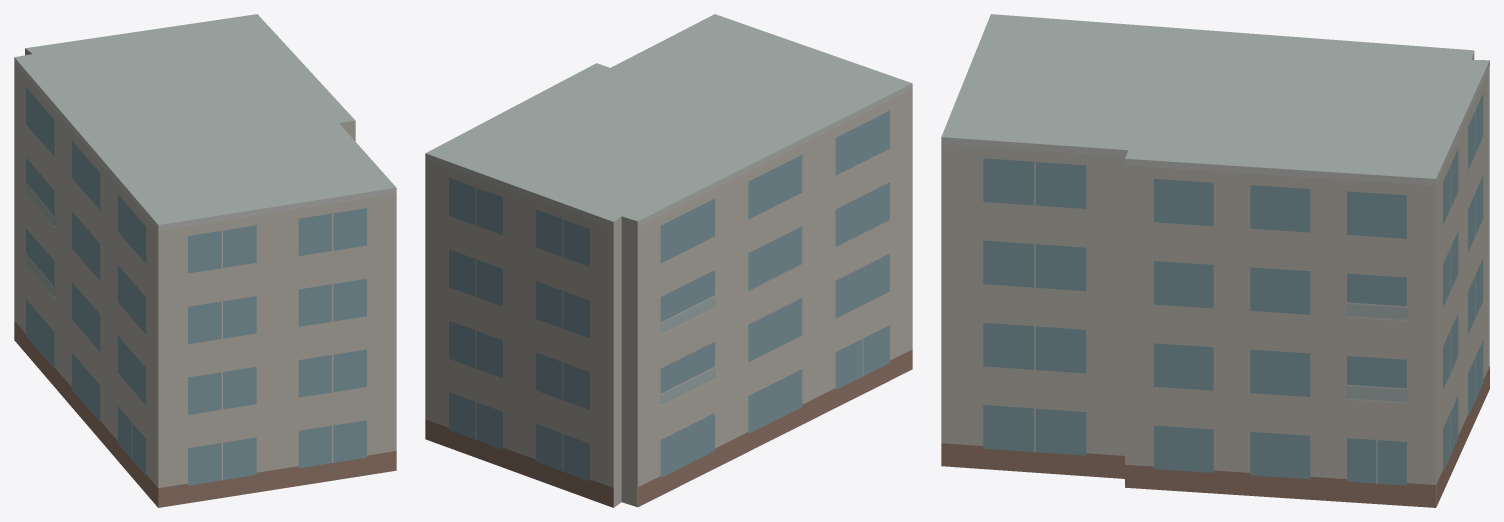
Rendered from survey-upis-32679278.glb.
3 views of the same model, side by side, from view 1: azimuth 30°, elevation 25°; view 2: azimuth 150°, elevation 25°; view 3: azimuth 270°, elevation 25° (orthographic). The views are drawn at different scales.
Parts seen in each view (by area): view 1: survey-upis-32679278.tmp; view 2: survey-upis-32679278.tmp; view 3: survey-upis-32679278.tmp.
Part boxes in pixels (left/top/right/bottom): survey-upis-32679278.tmp: left=14, top=14, right=396, bottom=507; survey-upis-32679278.tmp: left=425, top=14, right=912, bottom=507; survey-upis-32679278.tmp: left=941, top=14, right=1489, bottom=507.
Bounding box in the file's own units: 12.59 × 11.7 × 17.69.
